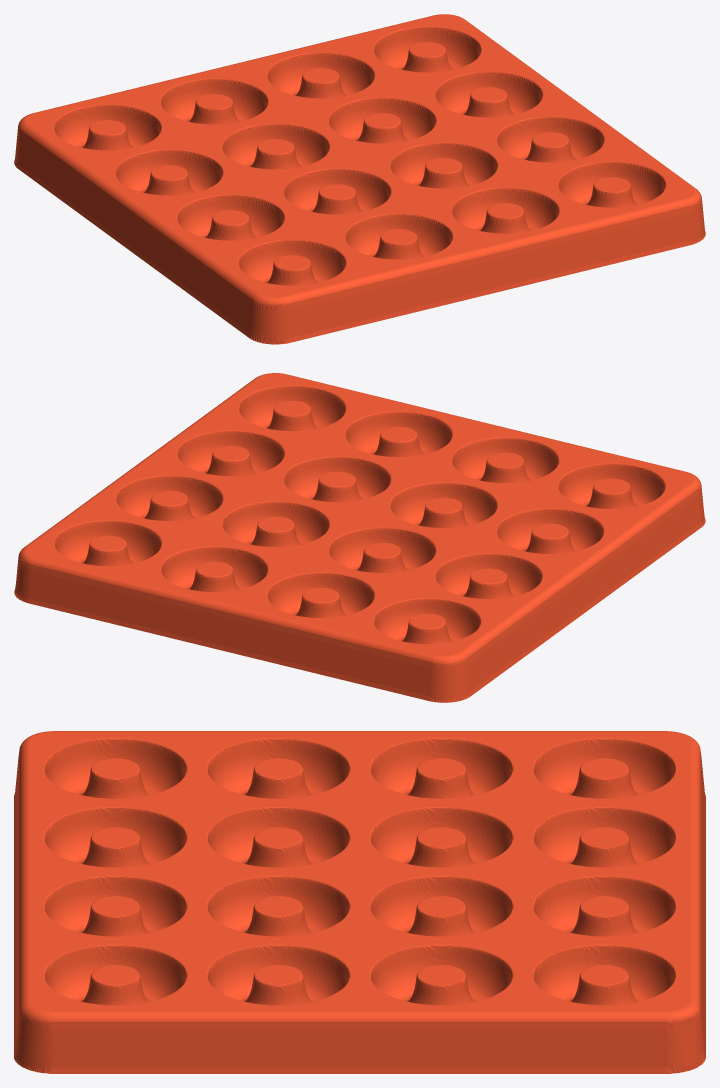
File: mold.glb
3 views of the same model, one above another, from view 1: azimuth 30°, elevation 25°; view 2: azimuth 150°, elevation 25°; view 3: azimuth 270°, elevation 25° (orthographic). The views are drawn at different scales.
Visible parts, largest first — view 1: geometry_0; view 2: geometry_0; view 3: geometry_0.
Boxes of the visible parts, <box> form: geometry_0: <box>14,14,705,344</box>; geometry_0: <box>14,373,705,702</box>; geometry_0: <box>14,731,705,1073</box>.
Bounding box in the file's own units: 0.1569 × 0.014 × 0.1569.
